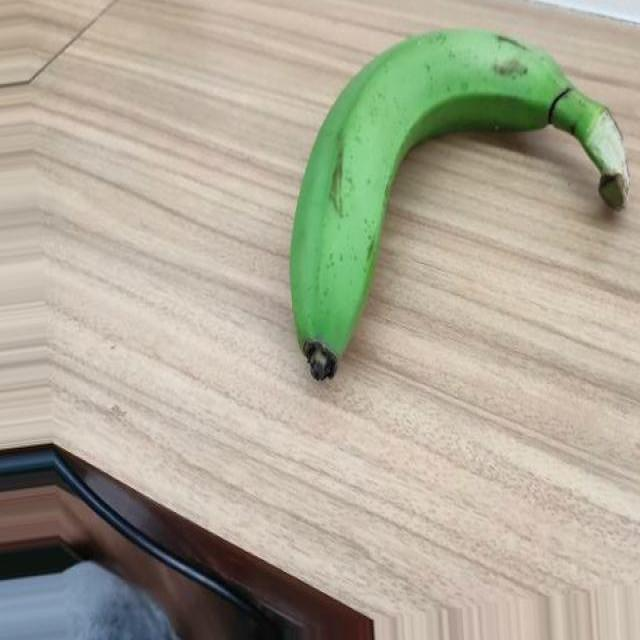Unripe: (287, 26, 630, 381)
